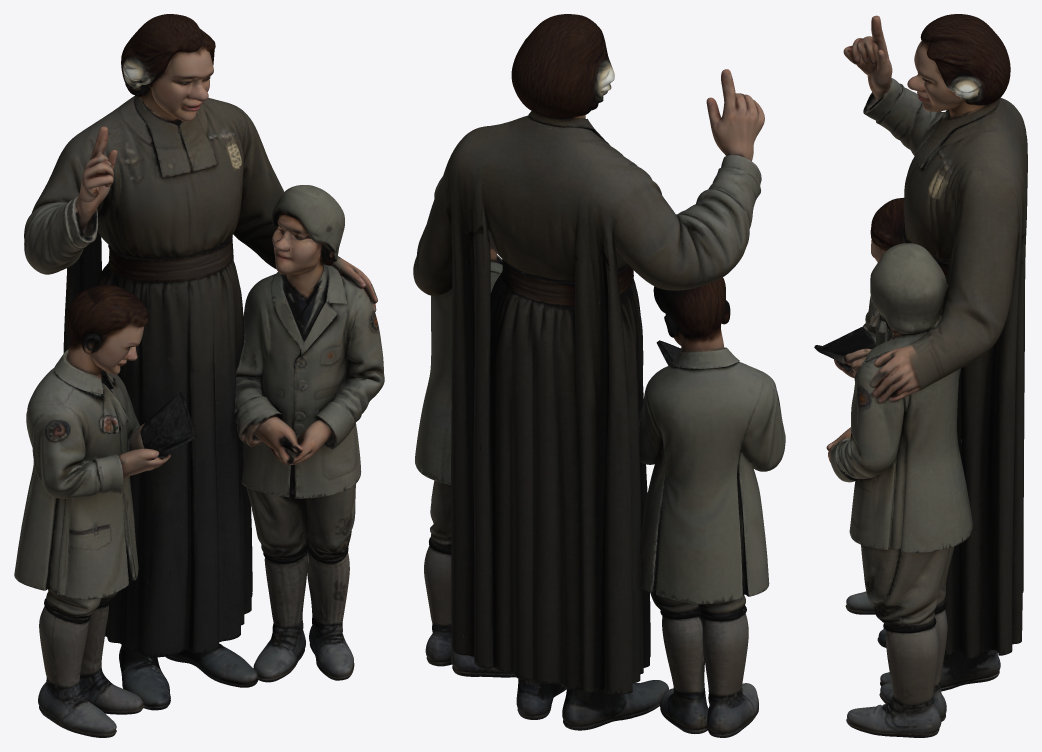
Rendered from San_Juan_Bautista.glb.
3 views of the same model, side by side, from view 1: azimuth 30°, elevation 25°; view 2: azimuth 150°, elevation 25°; view 3: azimuth 270°, elevation 25° (orthographic). The views are drawn at different scales.
Parts seen in each view (by area): view 1: model; view 2: model; view 3: model.
Boxes of the visible parts, x1,y1,x2,y2 form: model: [14, 14, 384, 737]; model: [413, 14, 785, 737]; model: [814, 14, 1027, 737].
Bounding box in the file's own units: 0.5418 × 1 × 0.2986.
Materials: 1 (1 with a texture image).
